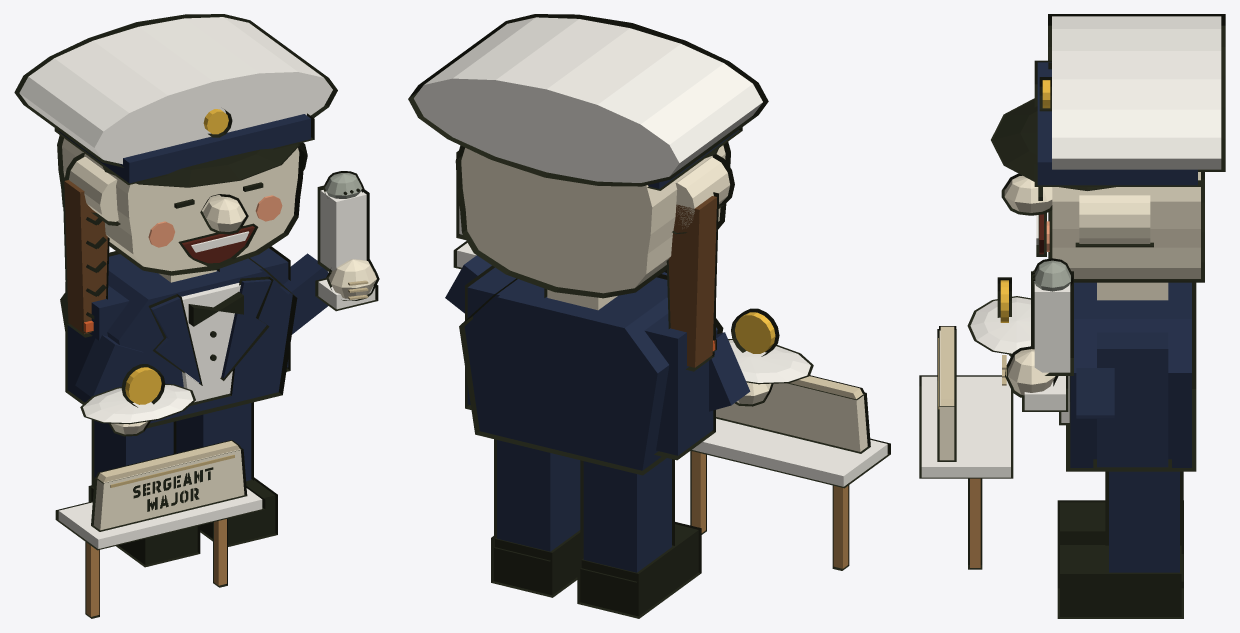
3 renders of one model, left to right at view 1: azimuth 30°, elevation 25°; view 2: azimuth 150°, elevation 25°; view 3: azimuth 270°, elevation 25°, orthographic. The views are drawn at different scales.
Parts seen in each view (by area): view 1: Link Marine; view 2: Link Marine; view 3: Link Marine.
Part boxes in pixels (bbox=[...]): Link Marine: bbox=[14, 14, 379, 618]; Link Marine: bbox=[408, 14, 890, 618]; Link Marine: bbox=[919, 14, 1225, 618].
Bounding box in the file's own units: 0.722 × 0.9942 × 0.5155.
